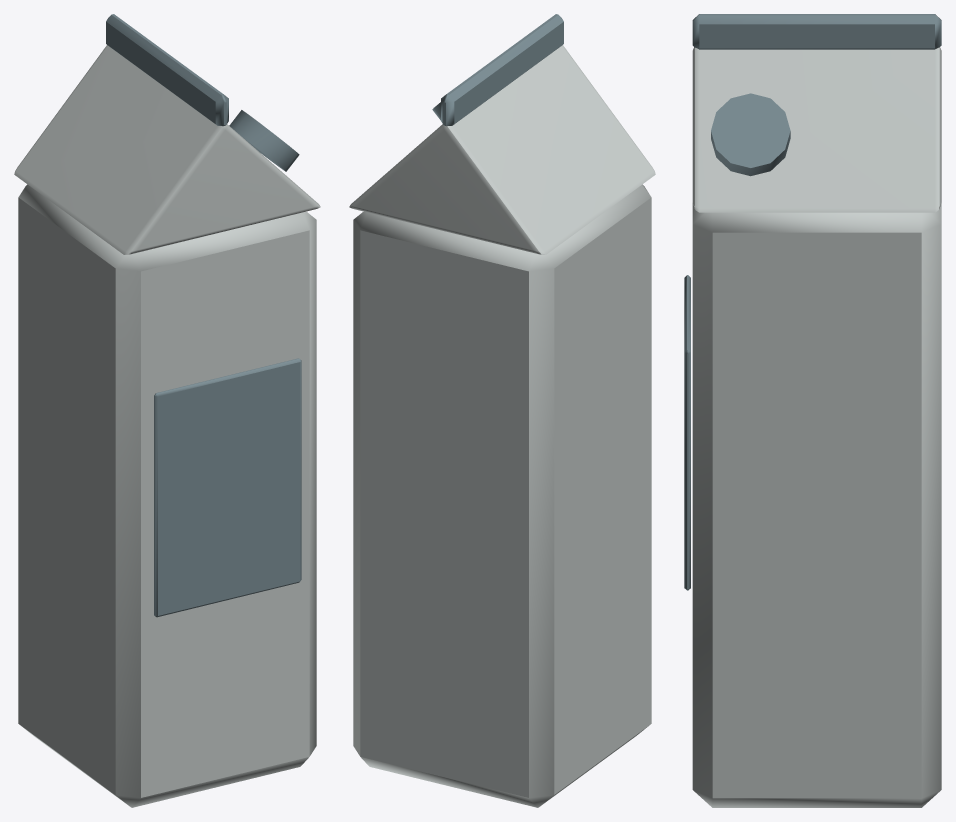
Rendered from milk-carton.glb.
The picture shows the model from 3 angles, left to right: view 1: azimuth 30°, elevation 25°; view 2: azimuth 150°, elevation 25°; view 3: azimuth 270°, elevation 25°; orthographic projection. The views are drawn at different scales.
Parts seen in each view (by area): view 1: carton_body, gable_top, milk_label, sealed_ridge, pour_cap; view 2: carton_body, gable_top, sealed_ridge; view 3: carton_body, gable_top, sealed_ridge, pour_cap, milk_label.
Boxes of the visible parts, left/top/right/bottom form: carton_body: left=18, top=184, right=316, bottom=807; gable_top: left=14, top=45, right=320, bottom=254; milk_label: left=154, top=358, right=301, bottom=617; sealed_ridge: left=106, top=14, right=228, bottom=126; pour_cap: left=229, top=110, right=299, bottom=171; carton_body: left=353, top=184, right=651, bottom=807; gable_top: left=349, top=45, right=655, bottom=254; sealed_ridge: left=441, top=14, right=563, bottom=126; carton_body: left=692, top=203, right=941, bottom=807; gable_top: left=692, top=47, right=941, bottom=212; sealed_ridge: left=692, top=14, right=941, bottom=49; pour_cap: left=711, top=93, right=790, bottom=176; milk_label: left=684, top=275, right=690, bottom=590.
Size of the model in its own units: 0.075 by 0.249 by 0.0775.
